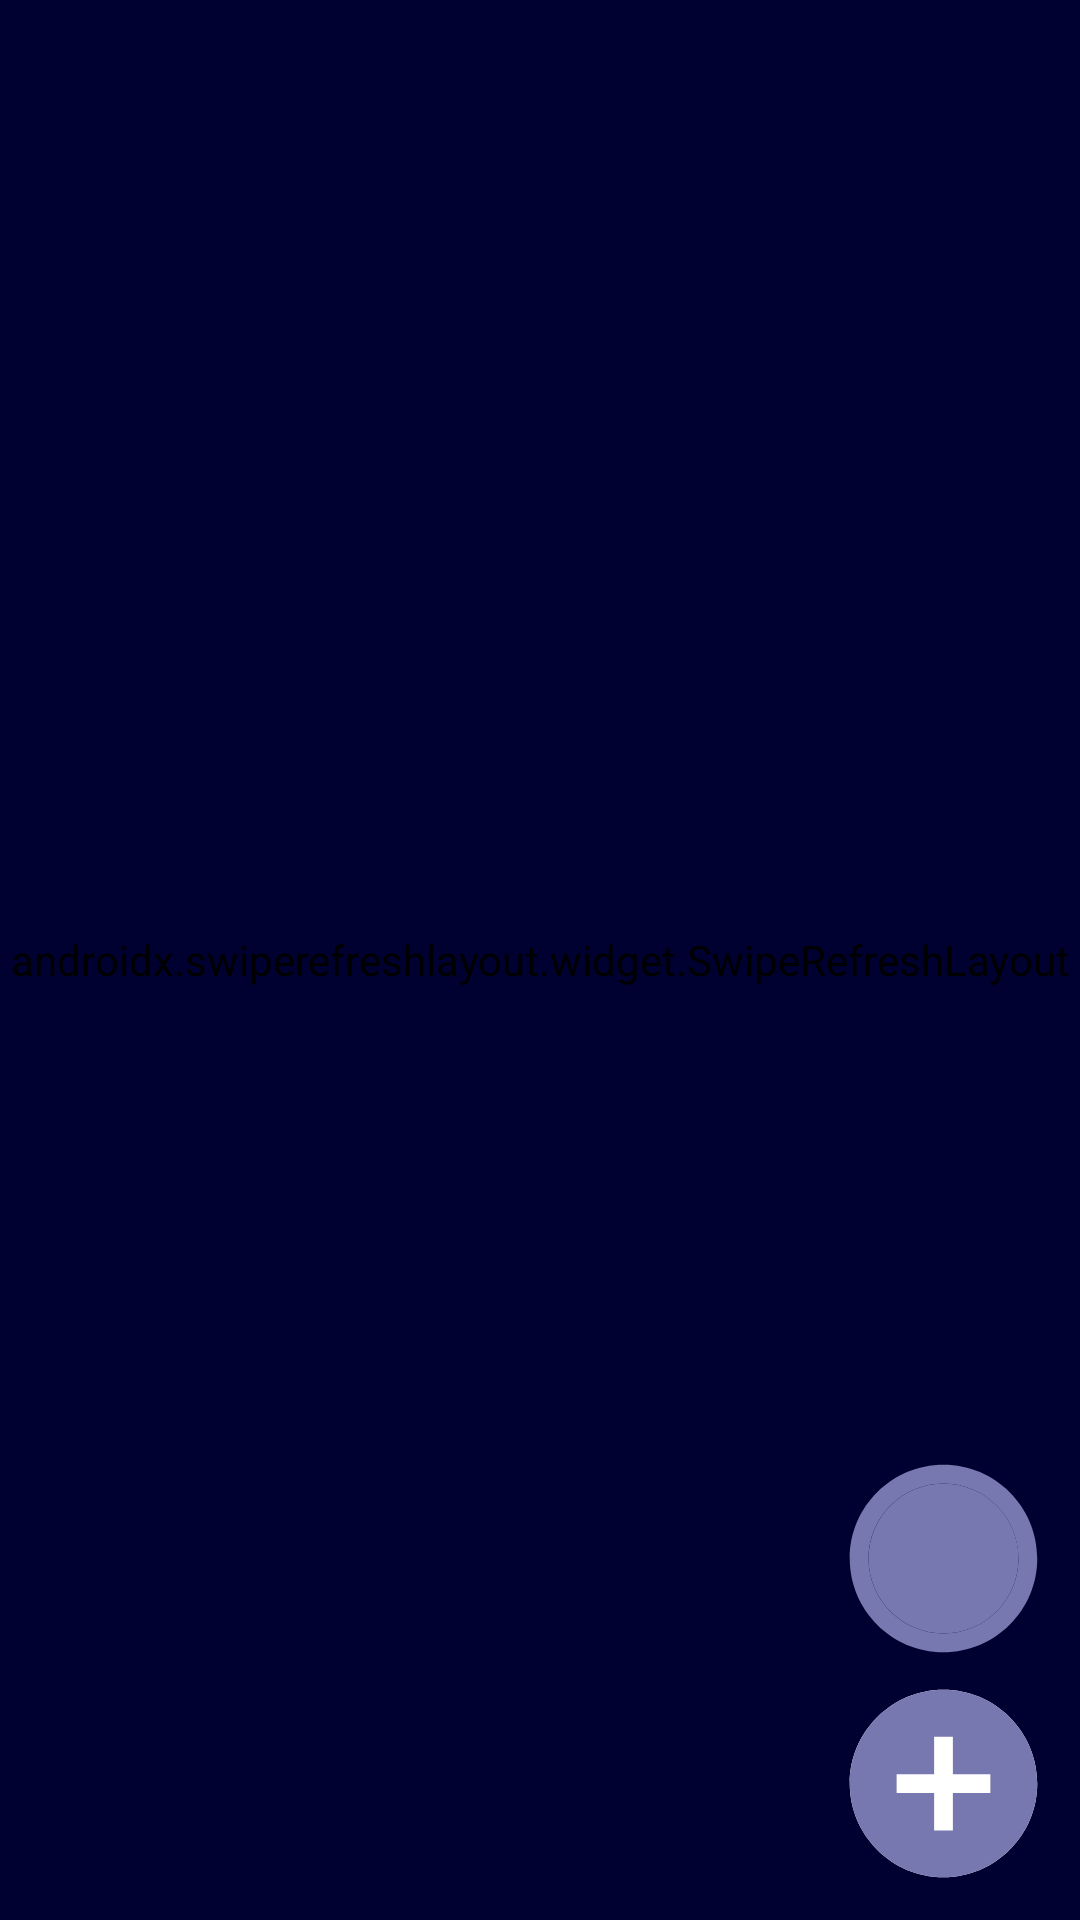

Named icons in this screenshot (1080px x 1920px) and their centers, (x,y):
Add Story Button: (943,1783)
